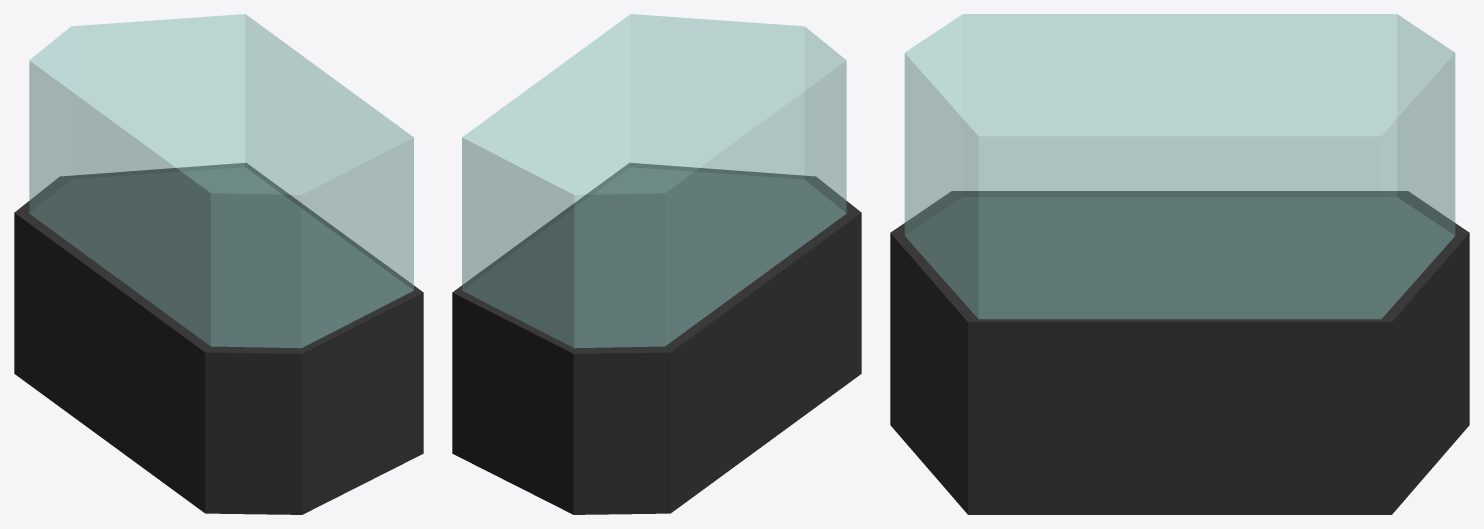
File: expositor5.fbx
3 renders of one model, left to right at view 1: azimuth 30°, elevation 25°; view 2: azimuth 150°, elevation 25°; view 3: azimuth 270°, elevation 25°, orthographic. The views are drawn at different scales.
Visible parts, largest first — view 1: Cube.015; view 2: Cube.015; view 3: Cube.015.
Part boxes in pixels (x1,y1,x2,y2): Cube.015: (14,14,423,514); Cube.015: (452,14,861,514); Cube.015: (890,14,1469,514).
Bounding box in the file's own units: 189 × 252 × 352.
